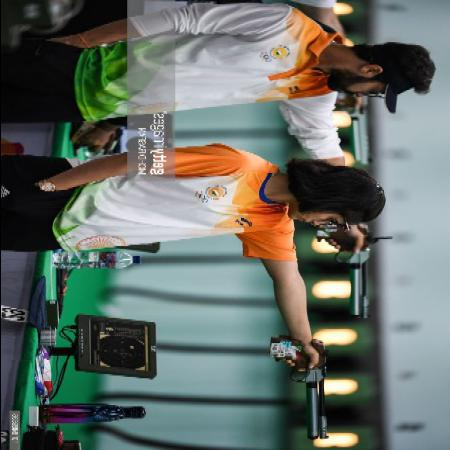Pistol: (266, 332, 332, 444), (316, 225, 372, 329), (344, 101, 375, 170)
